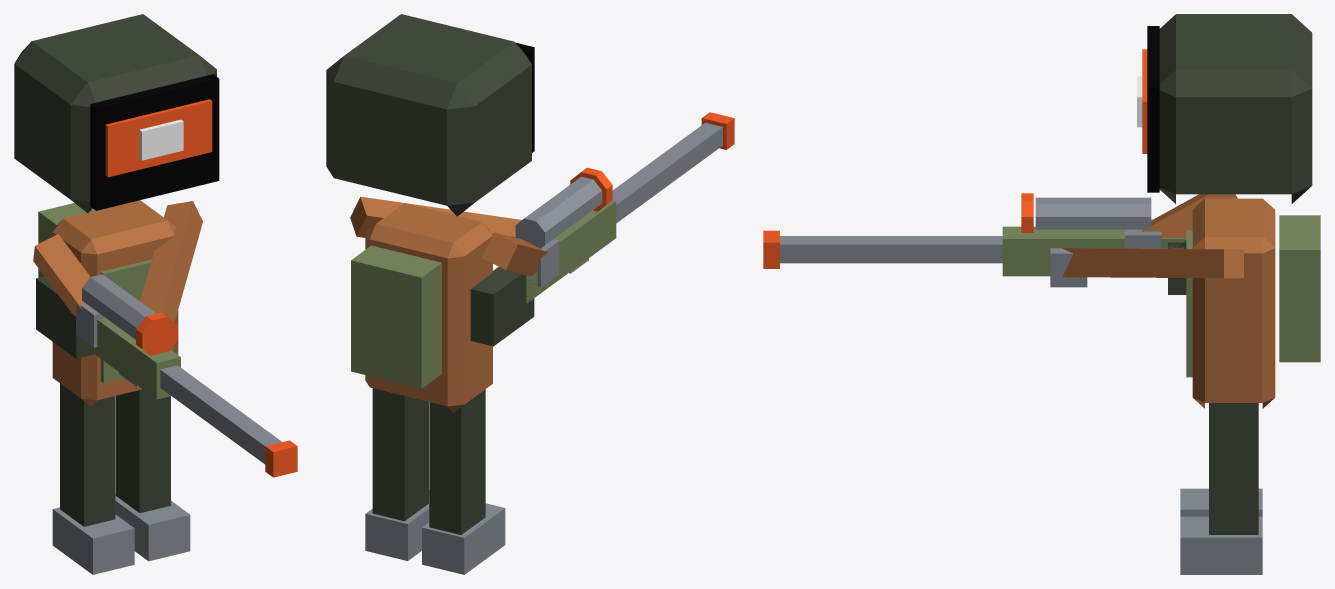
The model's file is sniper_enemy_r7.glb.
3 renders of one model, left to right at view 1: azimuth 30°, elevation 25°; view 2: azimuth 150°, elevation 25°; view 3: azimuth 270°, elevation 25°, orthographic. The views are drawn at different scales.
Parts seen in each view (by area): view 1: sniper_enemy_r7_mesh; view 2: sniper_enemy_r7_mesh; view 3: sniper_enemy_r7_mesh.
Part boxes in pixels (x1=…): sniper_enemy_r7_mesh: x1=14, y1=14, x2=297, y2=574; sniper_enemy_r7_mesh: x1=326, y1=14, x2=734, y2=574; sniper_enemy_r7_mesh: x1=763, y1=14, x2=1320, y2=574.
Size of the model in its own units: 0.5986 by 1.7 by 1.69.
Materials: 1 (1 with a texture image).
